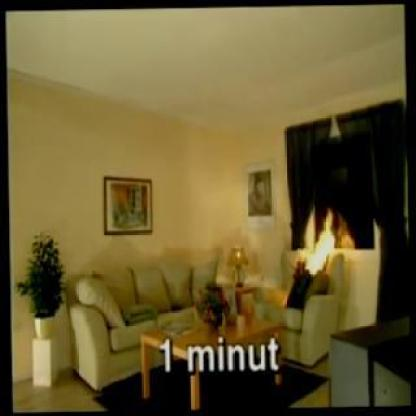Fire: (292, 206, 338, 288)
